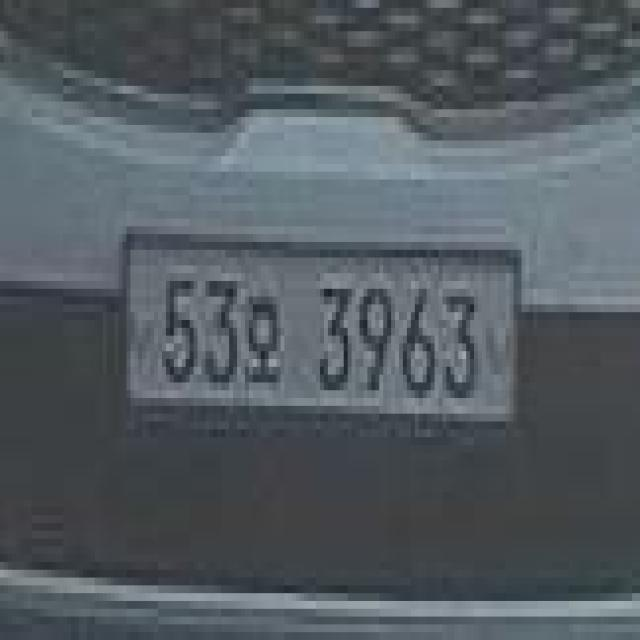3: (441, 284, 482, 406), (318, 268, 353, 399), (200, 268, 238, 388)
5: (160, 266, 198, 391)
6: (401, 286, 438, 405)
9: (358, 286, 393, 396)
license_plate: (115, 213, 530, 445)
o: (244, 286, 289, 406)
